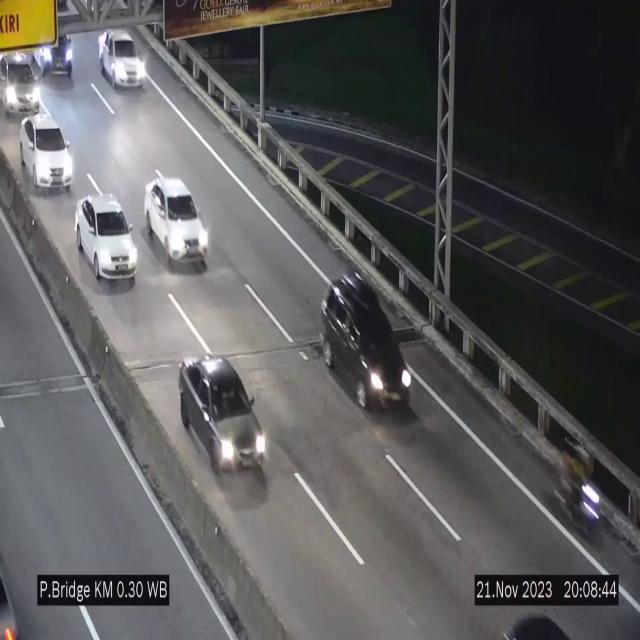Car: (320, 269, 412, 418), (179, 356, 269, 472), (144, 177, 208, 269), (75, 192, 137, 282), (21, 115, 73, 191), (99, 29, 145, 88), (0, 54, 42, 118)
Motorcycle: (562, 439, 606, 543)
